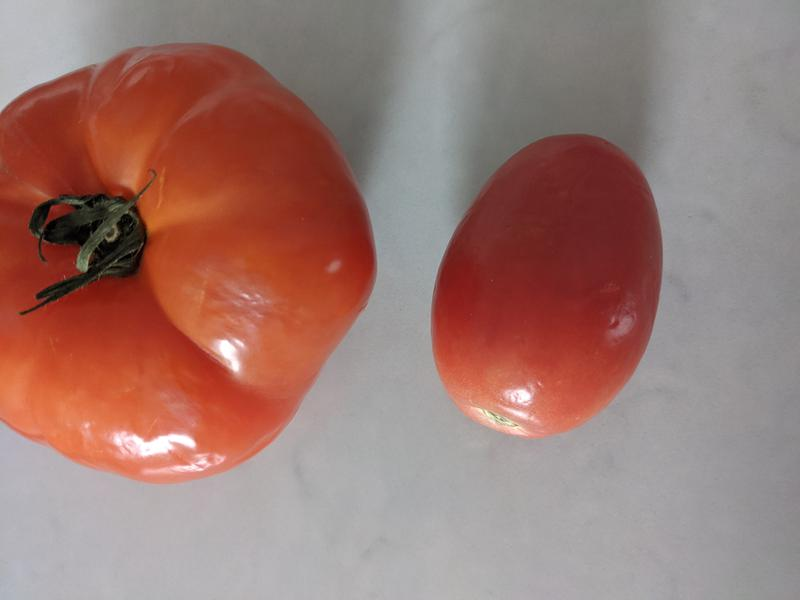tomato: (1, 43, 378, 486), (431, 133, 663, 442)
